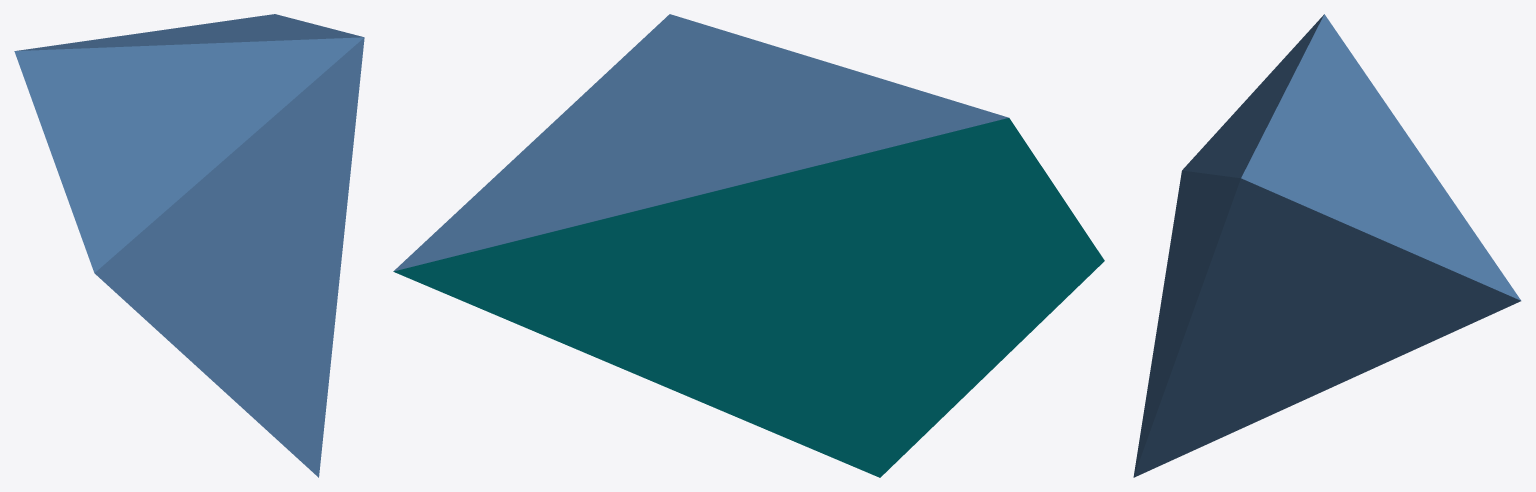
Rendered from wrong1.fbx.
The picture shows the model from 3 angles, left to right: view 1: azimuth 30°, elevation 25°; view 2: azimuth 150°, elevation 25°; view 3: azimuth 270°, elevation 25°; orthographic projection. The views are drawn at different scales.
Parts seen in each view (by area): view 1: wrong1; view 2: wrong1; view 3: wrong1.
Part boxes in pixels (left/top/right/bottom): wrong1: left=14, top=14, right=364, bottom=477; wrong1: left=393, top=14, right=1104, bottom=477; wrong1: left=1133, top=14, right=1521, bottom=477.
Bounding box in the file's own units: 44.25 × 46.22 × 43.65.
